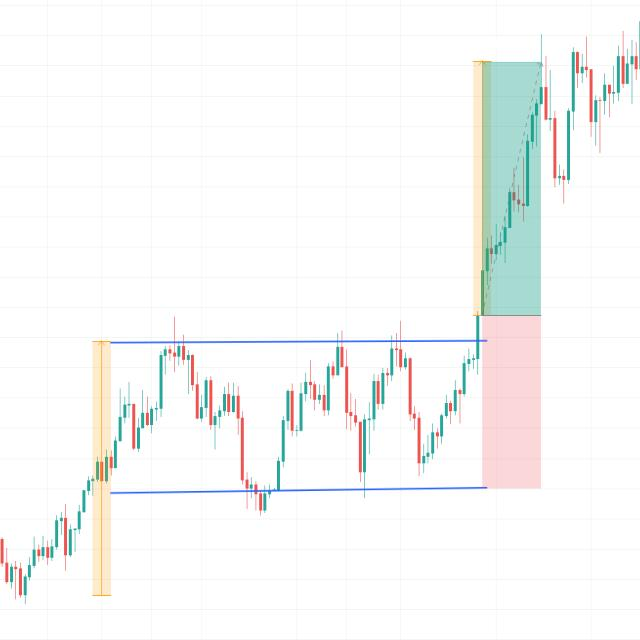rectangle: (110, 342, 485, 486)
